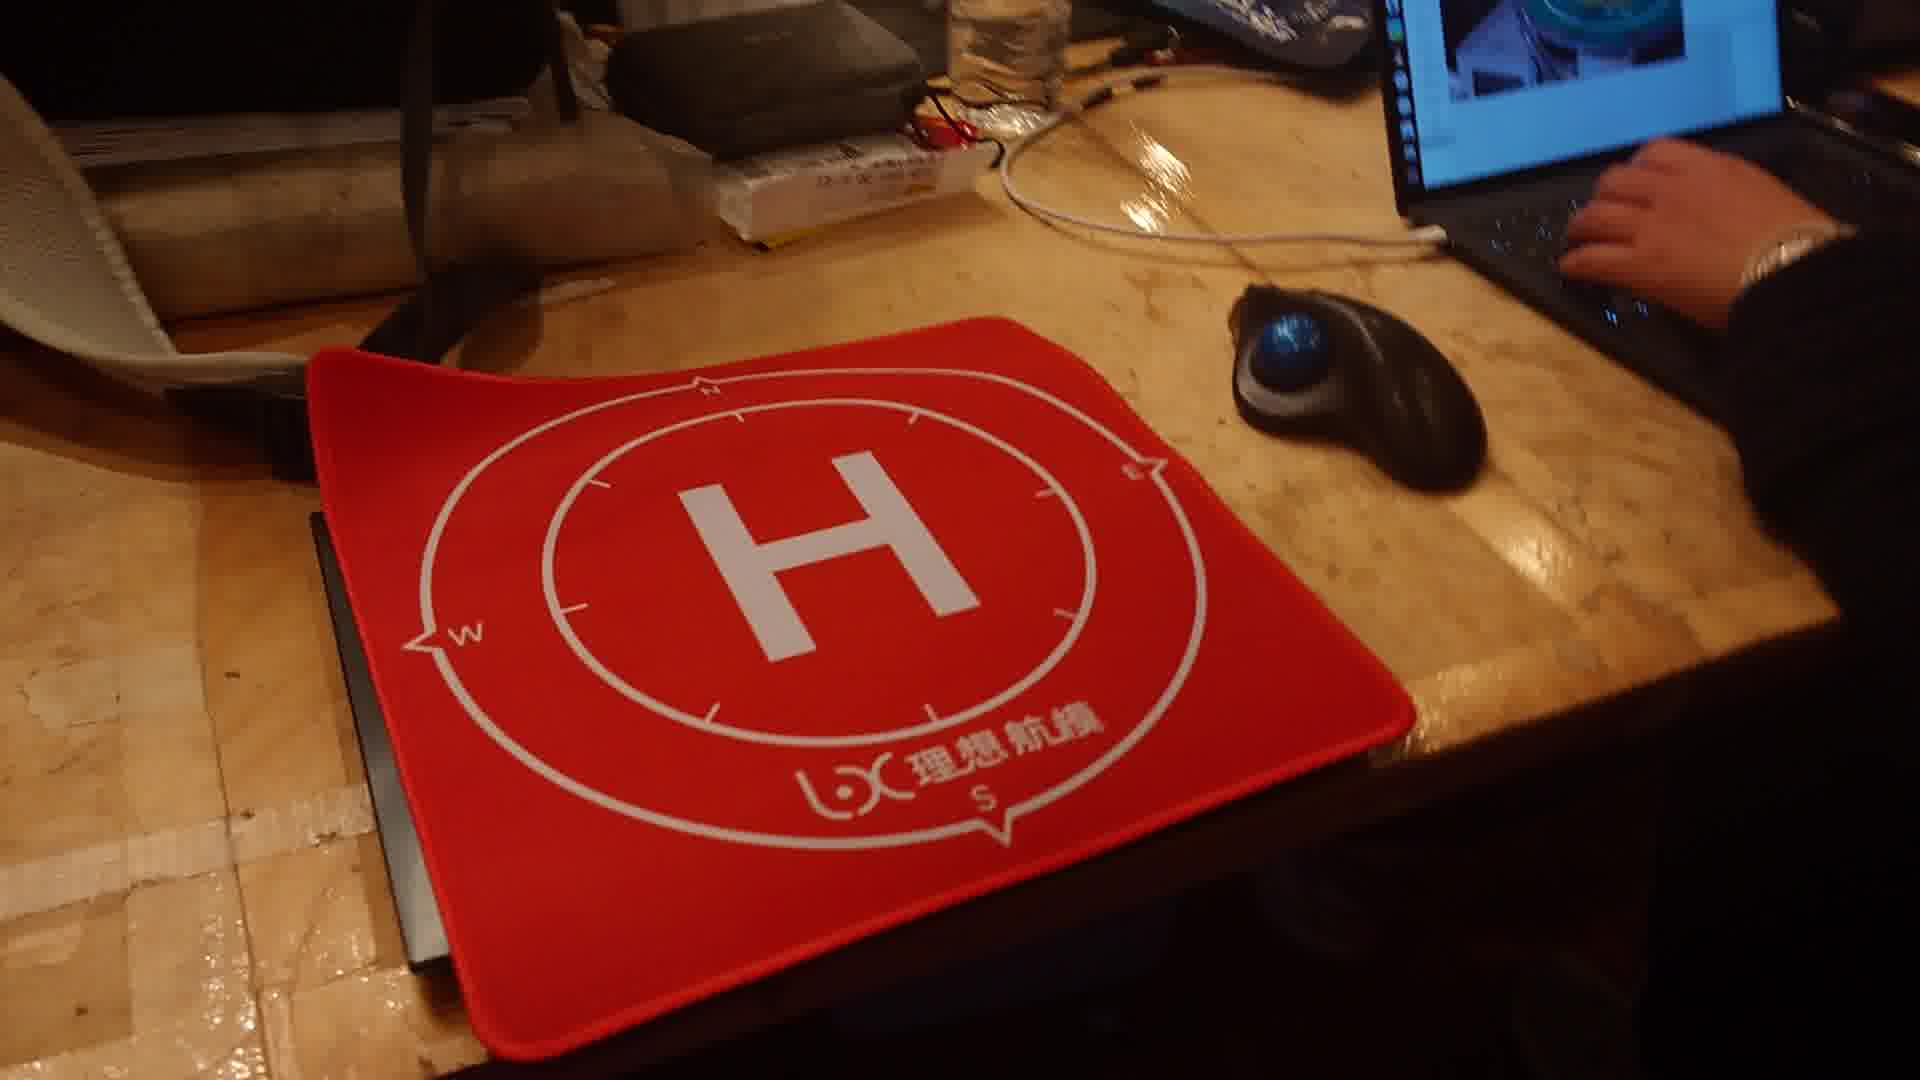H: (678, 448, 984, 665)
